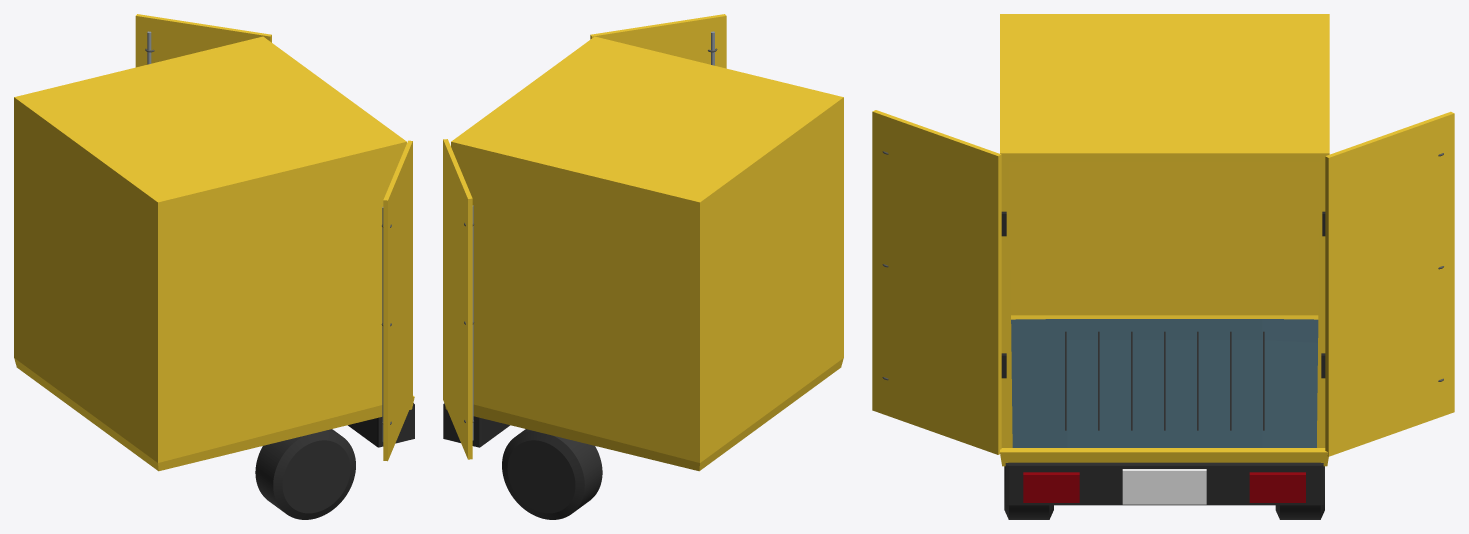
File: truckRyulMade16.fbx
3 renders of one model, left to right at view 1: azimuth 30°, elevation 25°; view 2: azimuth 150°, elevation 25°; view 3: azimuth 270°, elevation 25°, orthographic. The views are drawn at different scales.
Parts seen in each view (by area): view 1: TruckStorage, LeftDoor, wheel, RightDoor, Lamphead; view 2: TruckStorage, RightDoor, wheel.001, LeftDoor, Lamphead, doorHand.002; view 3: TruckStorage, LeftDoor, RightDoor, Lamphead, numberZone, BackHeadLight, BackHeadLight.001, wheel.001, wheel.
Boxes of the visible parts, x1,y1,x2,y2 form: TruckStorage: (14,36,414,471); LeftDoor: (383,140,412,461); wheel: (255,429,355,519); RightDoor: (135,14,271,67); Lamphead: (348,403,414,447); TruckStorage: (445,36,843,471); RightDoor: (443,139,472,459); wheel.001: (502,429,602,519); LeftDoor: (590,14,726,68); Lamphead: (443,403,509,447); doorHand.002: (472,205,473,440); TruckStorage: (1000,14,1329,466); LeftDoor: (872,110,1001,454); RightDoor: (1325,111,1454,456); Lamphead: (1005,462,1323,505); numberZone: (1122,469,1206,504); BackHeadLight: (1023,472,1079,502); BackHeadLight.001: (1249,472,1305,502); wheel.001: (1275,466,1324,519); wheel: (1004,466,1053,519).
Size of the model in its own units: 213 by 275 by 353.
